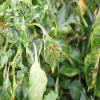Tomato leaf bacterial spot: (39, 27, 62, 74), (83, 48, 99, 94), (1, 20, 18, 43), (19, 18, 31, 49)
